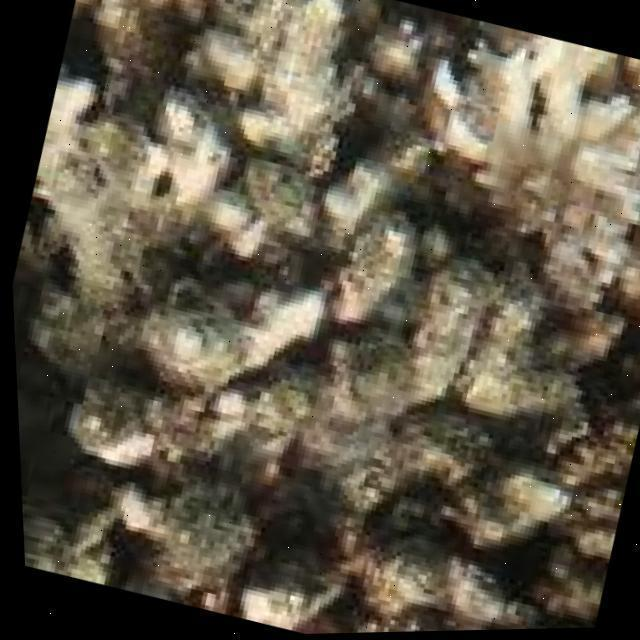Bleached Coral: (434, 0, 640, 221)
Dead Coral: (70, 250, 615, 623)
